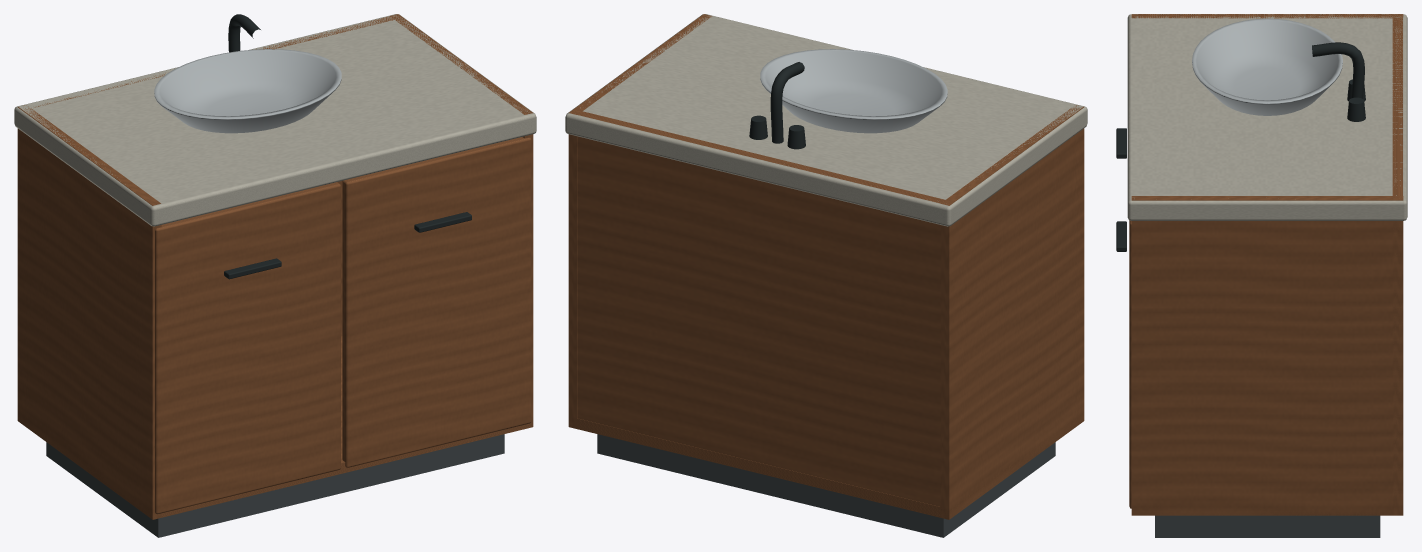
Rendered from sink_engawa-732c128591e9.glb.
3 renders of one model, left to right at view 1: azimuth 30°, elevation 25°; view 2: azimuth 150°, elevation 25°; view 3: azimuth 270°, elevation 25°, orthographic.
Parts seen in each view (by area): view 1: surface_walnut, surface_stone, surface_steel, surface_graphite, surface_black; view 2: surface_walnut, surface_stone, surface_steel, surface_graphite, surface_black; view 3: surface_walnut, surface_stone, surface_steel, surface_graphite, surface_black.
Boxes of the visible parts, left/top/right/bottom form: surface_walnut: left=17, top=14, right=533, bottom=519; surface_stone: left=14, top=14, right=536, bottom=226; surface_steel: left=154, top=49, right=341, bottom=133; surface_graphite: left=46, top=434, right=504, bottom=537; surface_black: left=224, top=14, right=471, bottom=279; surface_walnut: left=568, top=14, right=1084, bottom=519; surface_stone: left=565, top=14, right=1087, bottom=226; surface_steel: left=760, top=49, right=947, bottom=133; surface_graphite: left=597, top=434, right=1055, bottom=537; surface_black: left=749, top=62, right=805, bottom=149; surface_walnut: left=1129, top=14, right=1403, bottom=515; surface_stone: left=1127, top=14, right=1407, bottom=220; surface_steel: left=1192, top=18, right=1342, bottom=115; surface_graphite: left=1155, top=515, right=1380, bottom=537; surface_black: left=1116, top=42, right=1365, bottom=251.
Bounding box in the file's own units: 1.05 × 1.07 × 0.6861.
5 materials, 2 textured.
